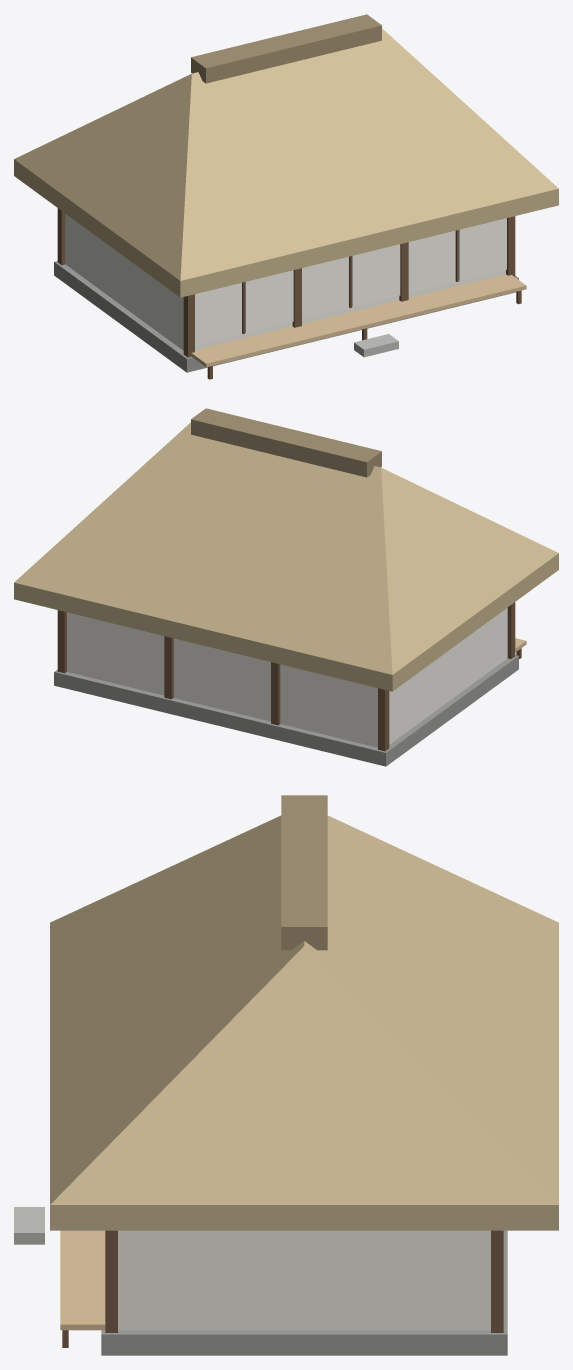
Rendered from kominka.glb.
3 views of the same model, one above another, from view 1: azimuth 30°, elevation 25°; view 2: azimuth 150°, elevation 25°; view 3: azimuth 270°, elevation 25° (orthographic). The views are drawn at different scales.
Parts seen in each view (by area): view 1: kominka; view 2: kominka; view 3: kominka.
Part boxes in pixels (x1,y1,x2,y2): kominka: (14,14,558,379); kominka: (14,408,558,766); kominka: (14,795,558,1355).
Size of the model in its own units: 13 by 7.95 by 10.6.
